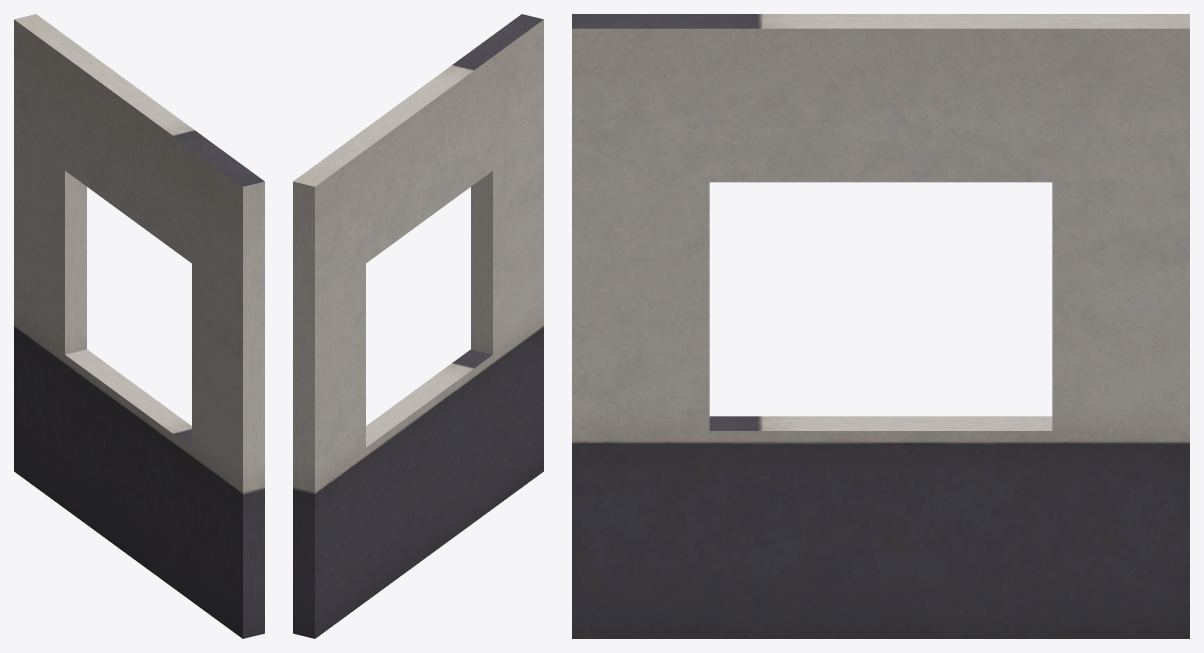
The model's file is soupwindwall020.obj.
3 renders of one model, left to right at view 1: azimuth 30°, elevation 25°; view 2: azimuth 150°, elevation 25°; view 3: azimuth 270°, elevation 25°, orthographic. The views are drawn at different scales.
Parts seen in each view (by area): view 1: soupwindwall020_high_1; view 2: soupwindwall020_high_1; view 3: soupwindwall020_high_1.
Part boxes in pixels (x1,y1,x2,y2): soupwindwall020_high_1: [14, 14, 264, 638]; soupwindwall020_high_1: [293, 14, 543, 638]; soupwindwall020_high_1: [572, 14, 1189, 638].
Bounding box in the file's own units: 0.1504 × 2.95 × 2.7.
